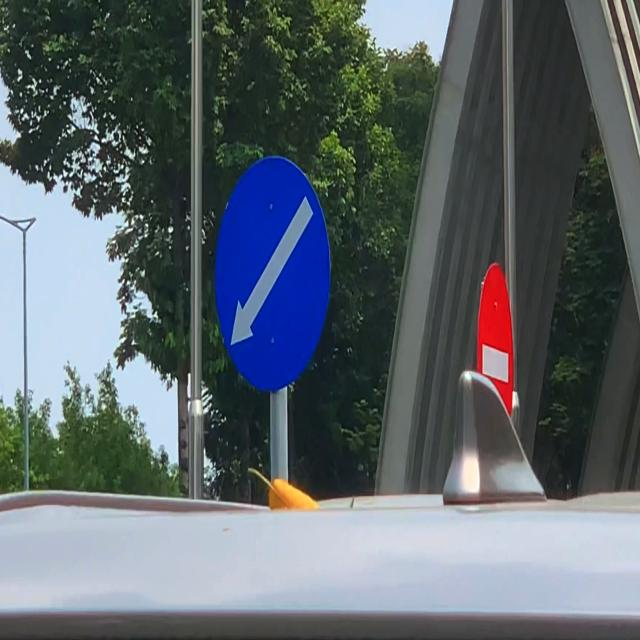Hieu lenh: (214, 156, 332, 393)
